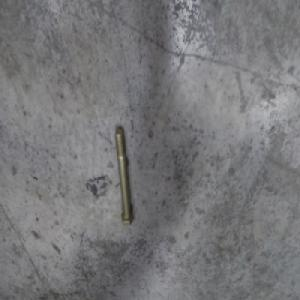Bolt: (115, 125, 135, 227)
